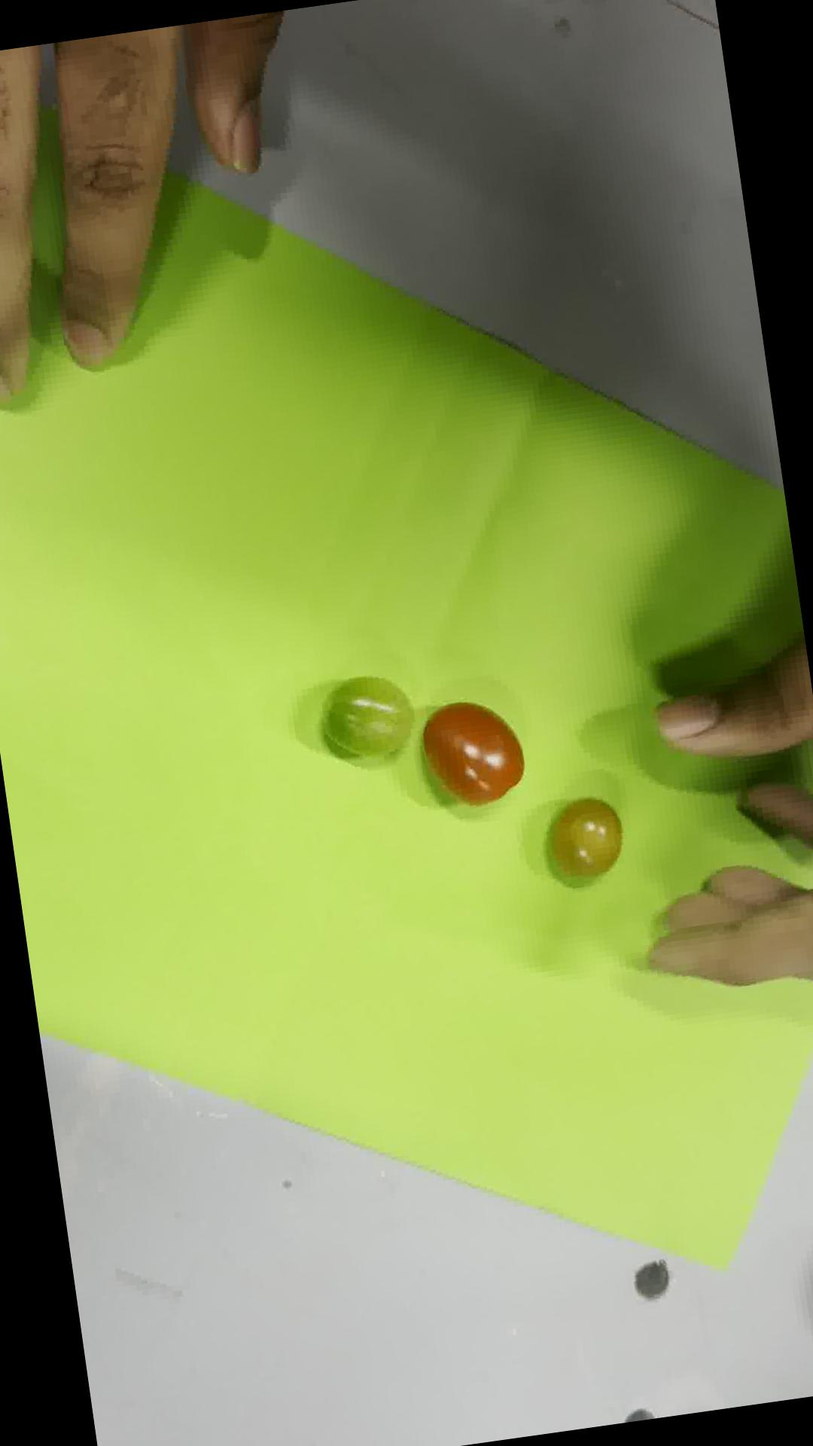green_cherry_tomato: (324, 677, 413, 758)
red_cherry_tomato: (423, 702, 524, 805)
yellow_cherry_tomato: (549, 797, 622, 878)
